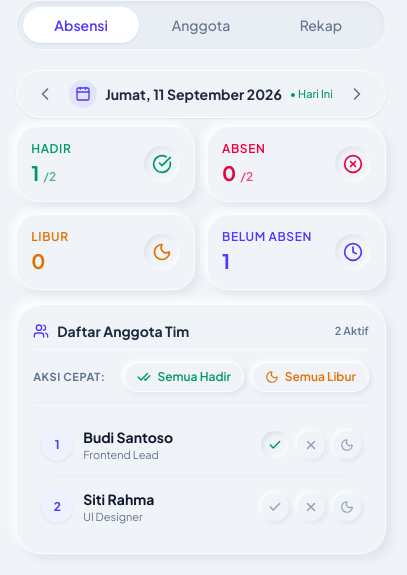
Test case: AttendancePage Soft Neumorphism Layout & No Double Card › renders revamped Soft Neumorphic layout on Anggota sub-tab with balanced header, metrics, search, and member cards
# Switch to "Anggota" tab
Click the tab "Anggota" at (201, 25), box [143,7,259,43]
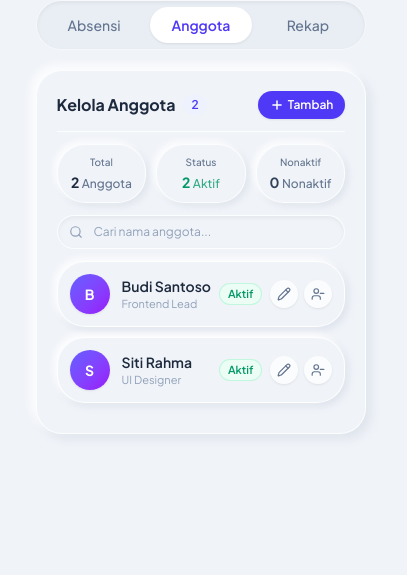
Expected: the heading "Kelola Anggota" is shown, [57,93,175,117]
Expected: the button "Tambah" is shown, [258,91,345,119]
Expected: the text "Total" is shown, [90,156,113,168]
# Search filter test
Type "Siti" into the field with placeholder "Cari nama anggota..." at (201, 232), box [57,215,345,249]
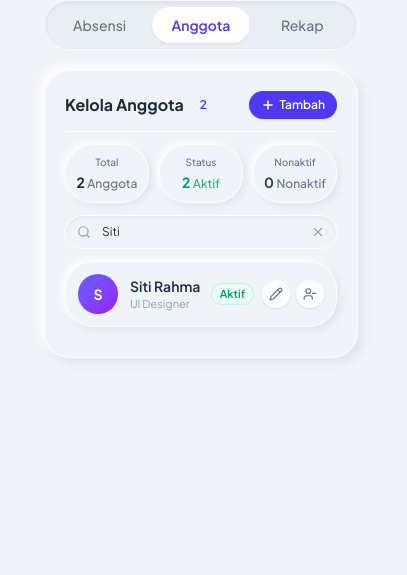
Expected: the text "Siti Rahma" is shown, [130,276,203,296]
Expected: the text "Budi Santoso" is gone
# Clear search
Clear the field with placeholder "Cari nama anggota..." at (201, 232), box [65,215,337,249]
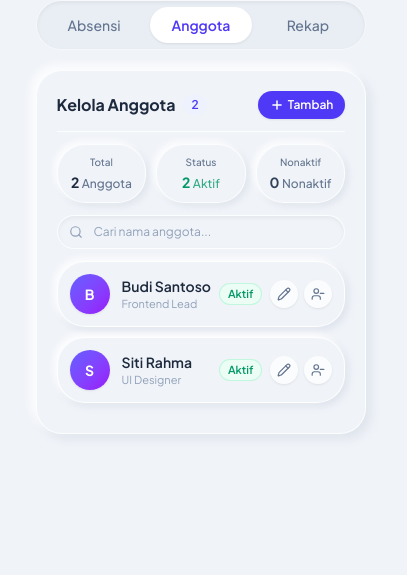
Expected: the text "Budi Santoso" is shown, [122,276,211,296]
